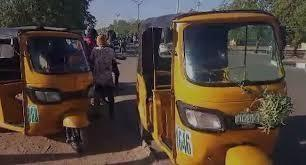keke: (136, 9, 290, 164), (1, 26, 95, 151)
